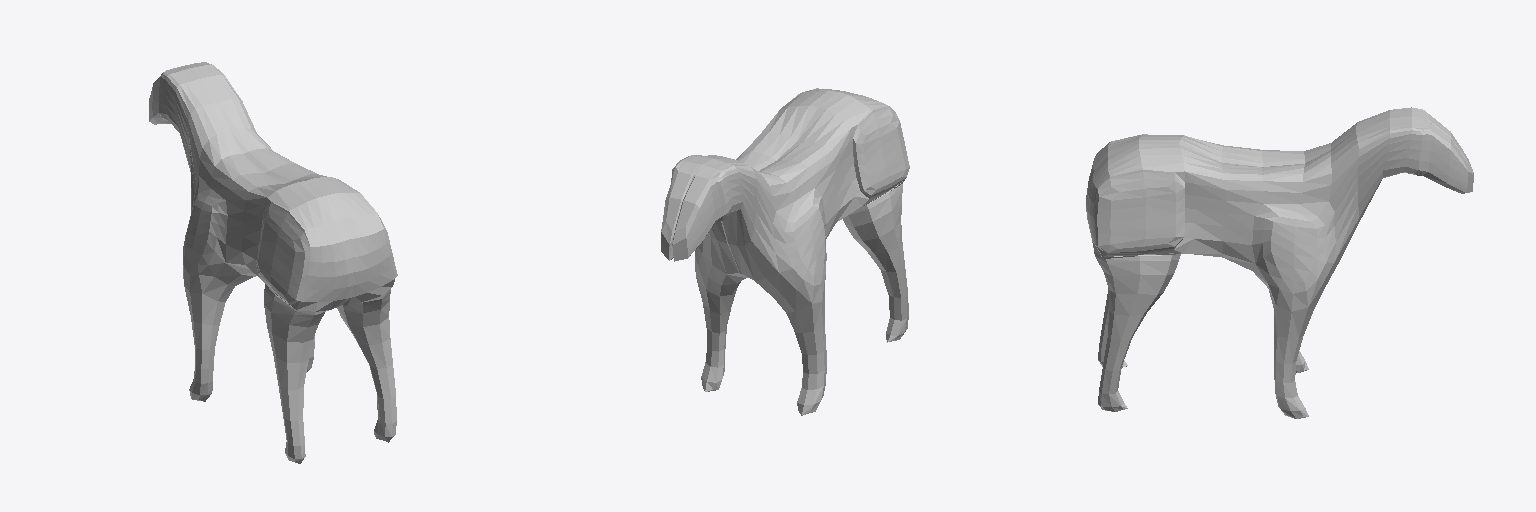
Rendered from Horse_version_03.OBJ.
The picture shows the model from 3 angles: view 1: azimuth 30°, elevation 25°; view 2: azimuth 150°, elevation 25°; view 3: azimuth 270°, elevation 25°; orthographic projection.
Visible parts, largest first — view 1: ZBrush_defualt_group; view 2: ZBrush_defualt_group; view 3: ZBrush_defualt_group.
Boxes of the visible parts, box(x1,y1,x2,y2) form: ZBrush_defualt_group: box(149, 62, 397, 463); ZBrush_defualt_group: box(661, 88, 909, 415); ZBrush_defualt_group: box(1086, 107, 1473, 418).
Size of the model in its own units: 6.07 by 13.46 by 16.97.